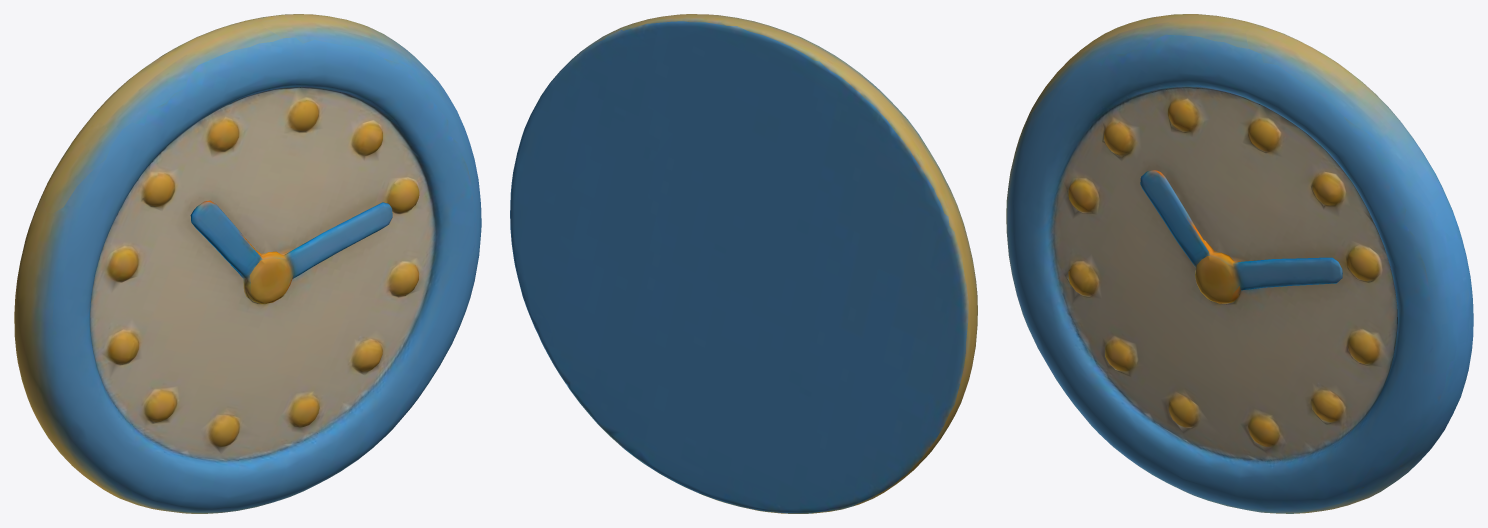
The model's file is clock_colorful.glb.
3 renders of one model, left to right at view 1: azimuth 30°, elevation 25°; view 2: azimuth 150°, elevation 25°; view 3: azimuth 330°, elevation 25°, orthographic.
Parts seen in each view (by area): view 1: textured_mesh.obj; view 2: textured_mesh.obj; view 3: textured_mesh.obj.
Part boxes in pixels (bbox=[...]): textured_mesh.obj: bbox=[14, 14, 481, 513]; textured_mesh.obj: bbox=[510, 14, 977, 513]; textured_mesh.obj: bbox=[1006, 14, 1473, 513].
Size of what is drawn, in the model's own units: 0.6988 by 0.7 by 0.08.
1 material, 1 textured.
